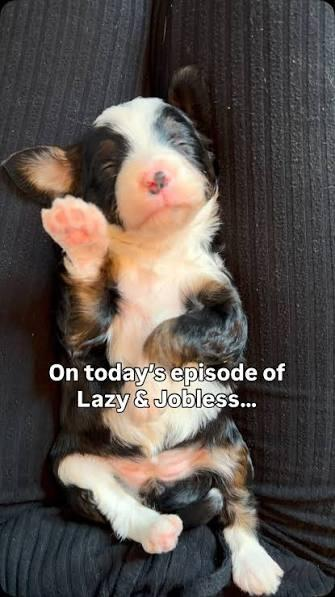puppy-dog: (4, 65, 290, 596)
